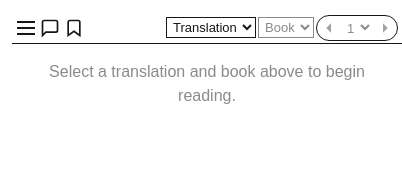
Test: conversation icon toggles chat and back to the Reader
Click the button named "Open Conversation".
click(50, 28)  # box top-left (38, 16), bottom-right (62, 40)
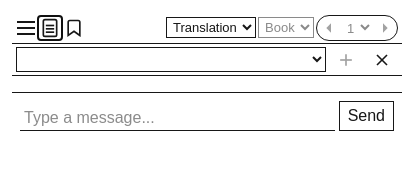
Now the button named "New conversation" is shown, box top-left (330, 44), bottom-right (362, 76)
Click the button named "Open Conversation".
click(50, 28)  # box top-left (38, 16), bottom-right (62, 40)
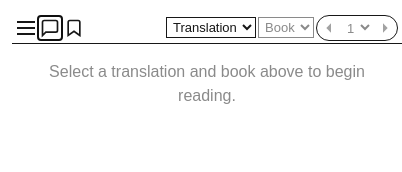
Now the text "Select a translation and book above to begin reading." is shown, box top-left (49, 63), bottom-right (365, 104)
